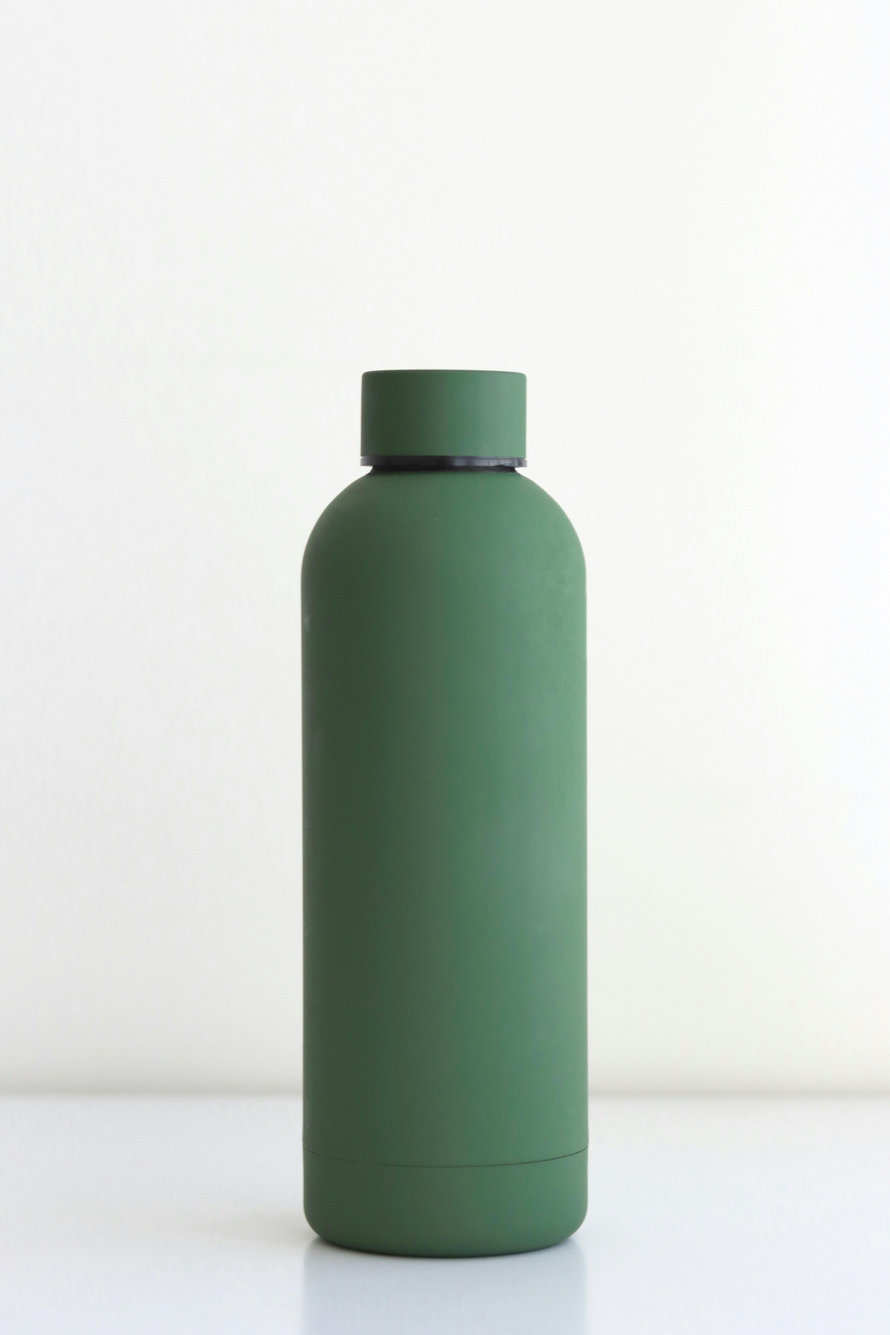Bottle-Detection: (242, 324, 662, 1293)
